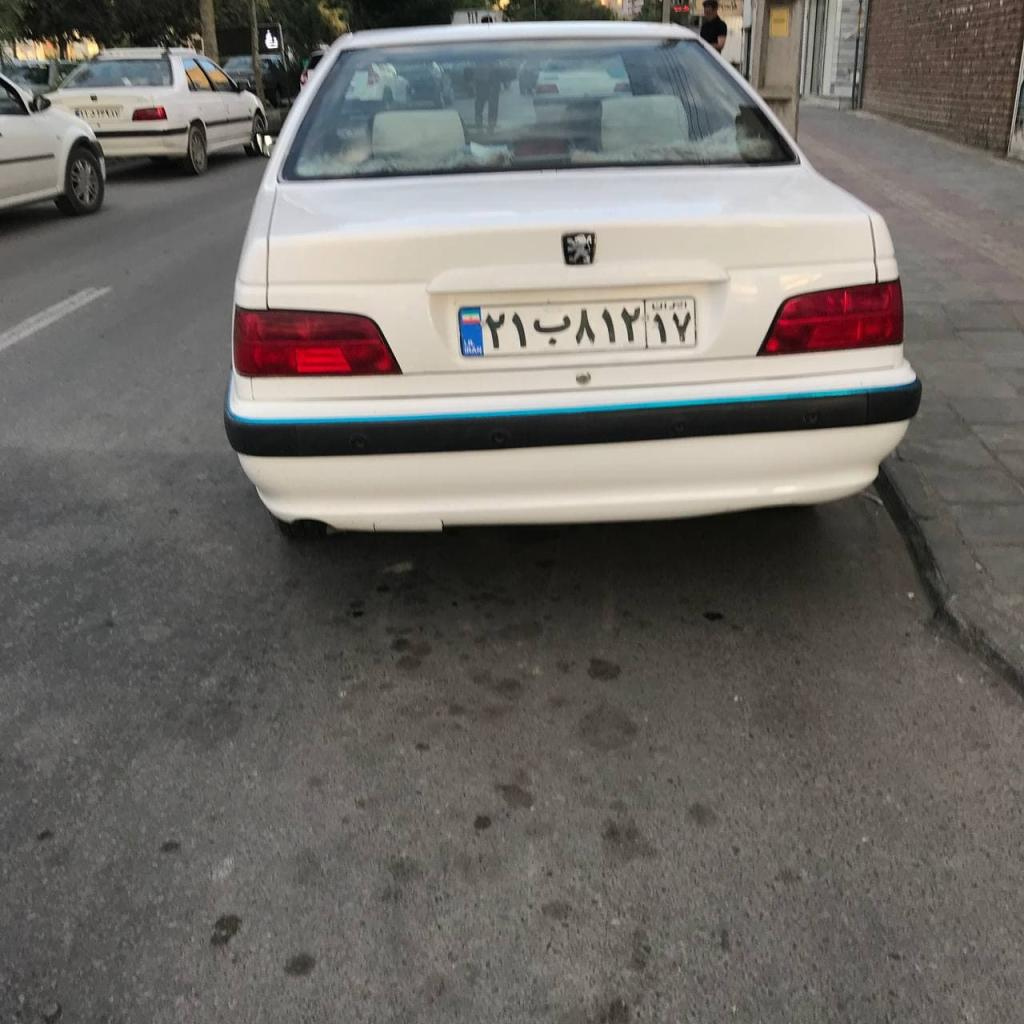Plates: (458, 296, 695, 357)
